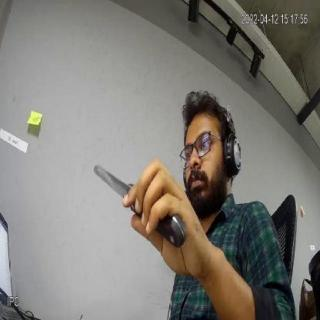knife: (91, 158, 145, 212)
